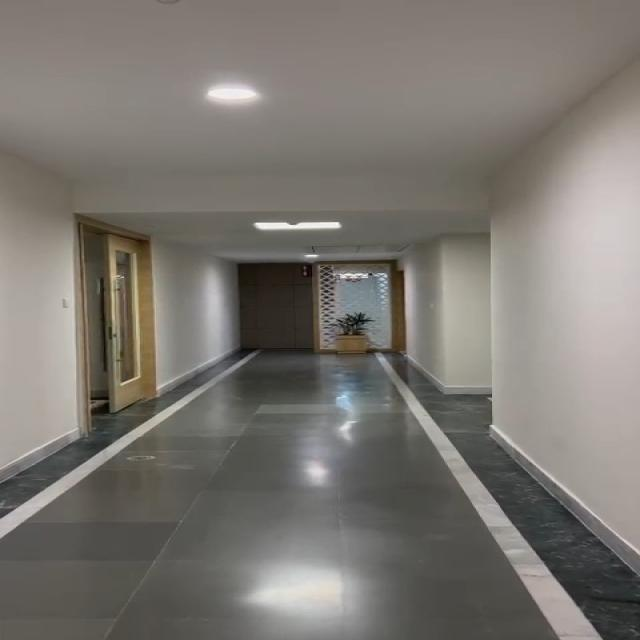door: (78, 216, 172, 407)
floor: (16, 451, 564, 640), (225, 360, 488, 446)
furniture: (312, 311, 409, 365)
wall: (422, 106, 640, 407), (0, 166, 99, 442), (153, 202, 240, 354)
